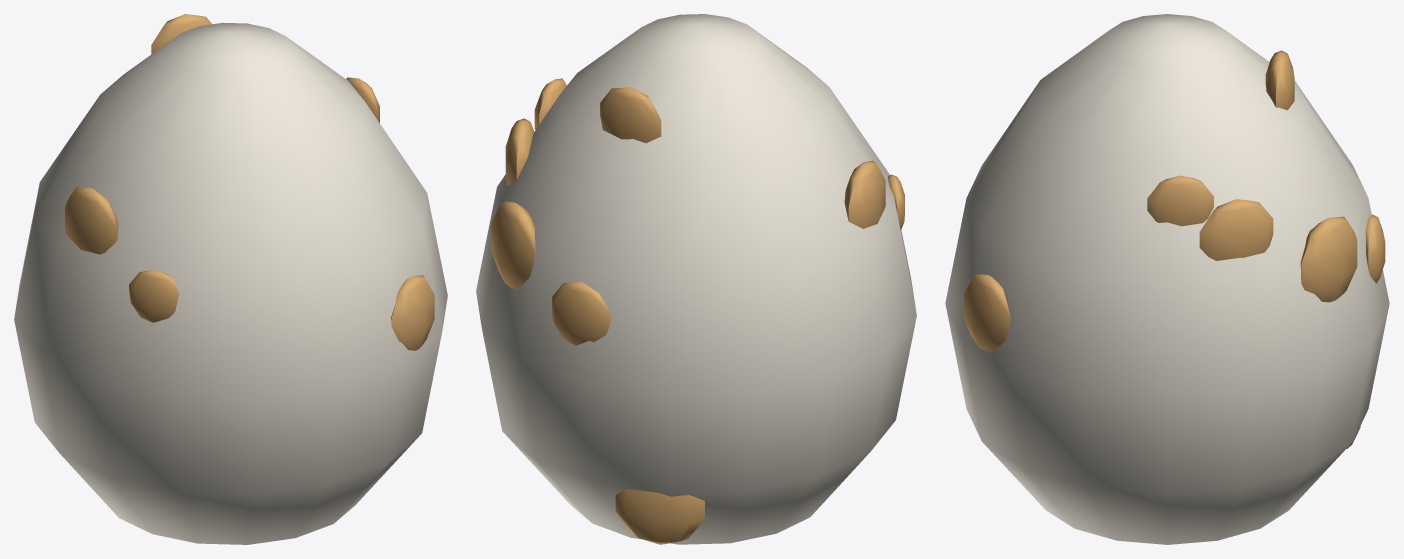
File: CommonEgg.fbx
The picture shows the model from 3 angles, left to right: view 1: azimuth 30°, elevation 25°; view 2: azimuth 150°, elevation 25°; view 3: azimuth 270°, elevation 25°; orthographic projection.
Visible parts, largest first — view 1: CommonEgg; view 2: CommonEgg; view 3: CommonEgg.
Boxes of the visible parts, <box> form: CommonEgg: <box>14,14,447,544</box>; CommonEgg: <box>476,14,916,544</box>; CommonEgg: <box>945,14,1389,544</box>.
Size of the model in its own units: 2.1 by 2.5 by 2.1.
1 material, 1 textured.
